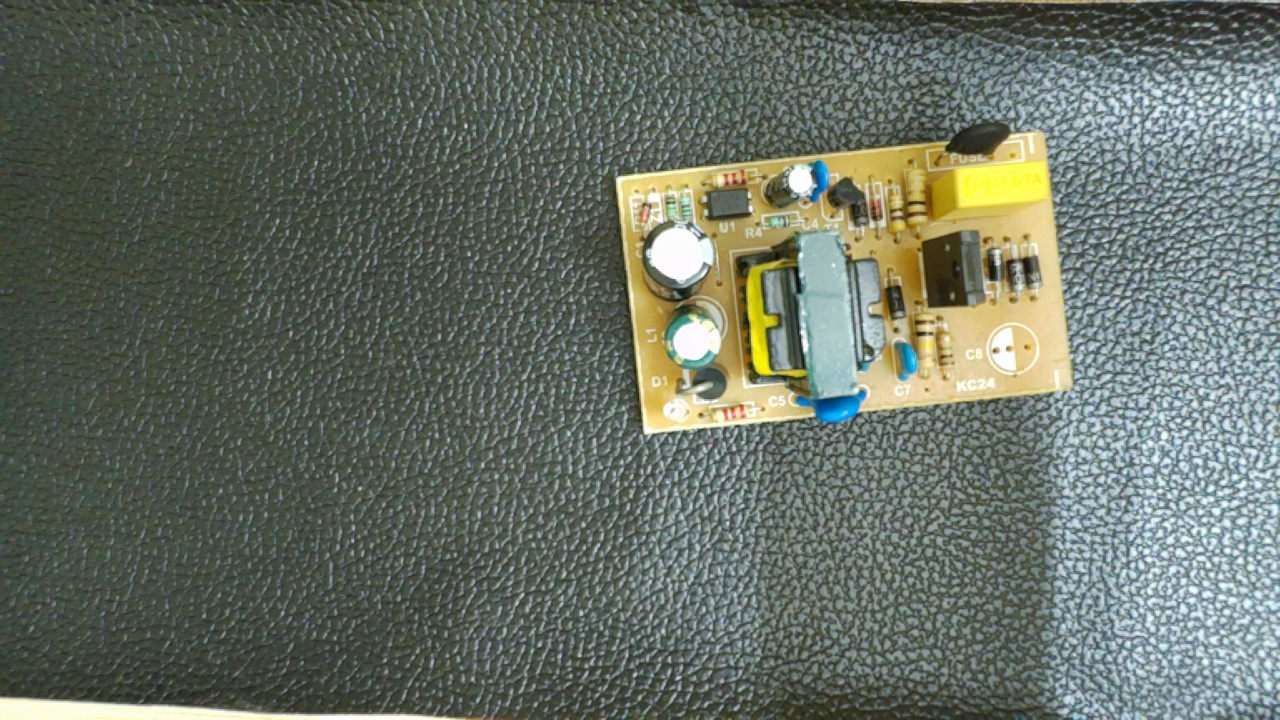fuse: (926, 122, 1035, 164)
mov: (788, 387, 873, 425)
optocoupler: (693, 186, 764, 222)
